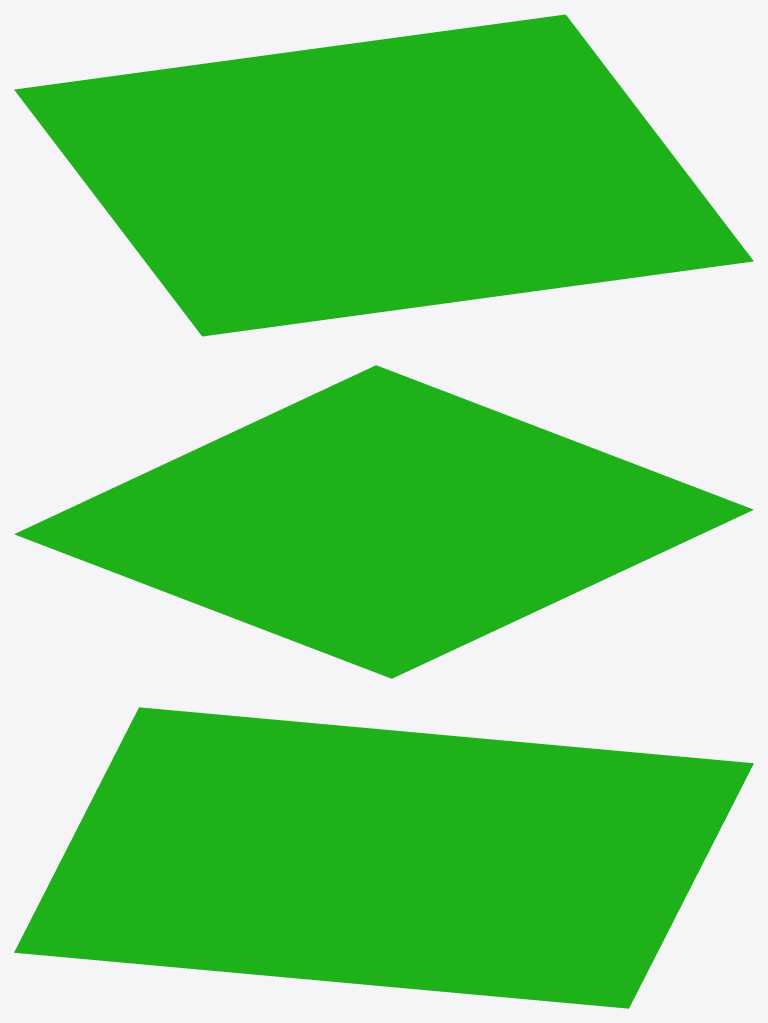
File: map_21.osm_vegetation.002.gltf
3 renders of one model, top to bottom at view 1: azimuth 30°, elevation 25°; view 2: azimuth 150°, elevation 25°; view 3: azimuth 270°, elevation 25°, orthographic. The views are drawn at different scales.
Parts seen in each view (by area): view 1: map_21.osm_vegetation.002; view 2: map_21.osm_vegetation.002; view 3: map_21.osm_vegetation.002.
Boxes of the visible parts, left/top/right/bottom form: map_21.osm_vegetation.002: left=14, top=14, right=753, bottom=336; map_21.osm_vegetation.002: left=14, top=365, right=753, bottom=678; map_21.osm_vegetation.002: left=14, top=707, right=753, bottom=1008.
Bounding box in the file's own units: 20.45 × 0 × 21.22.
